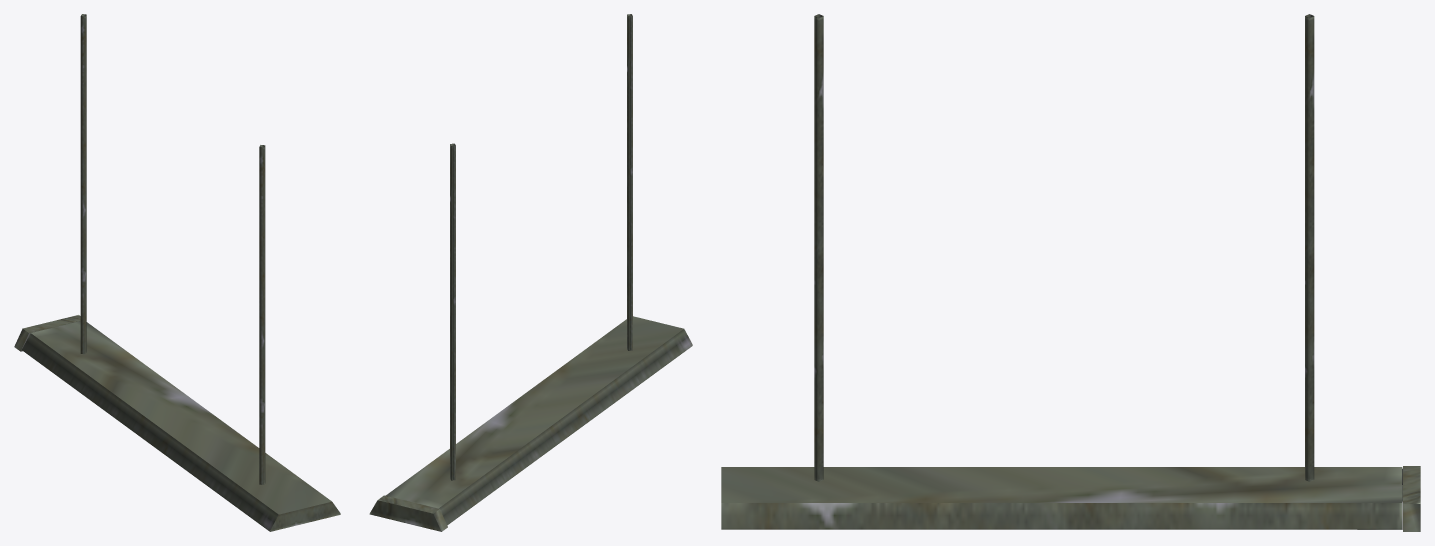
The model's file is Light.FBX.
3 views of the same model, side by side, from view 1: azimuth 30°, elevation 25°; view 2: azimuth 150°, elevation 25°; view 3: azimuth 270°, elevation 25° (orthographic). The views are drawn at different scales.
Visible parts, largest first — view 1: Light; view 2: Light; view 3: Light.
Boxes of the visible parts, x1,y1,x2,y2 form: Light: [14, 14, 340, 531]; Light: [369, 14, 692, 531]; Light: [721, 14, 1420, 531].
Size of the model in its own units: 23.86 by 144 by 110.
1 material, 1 textured.
